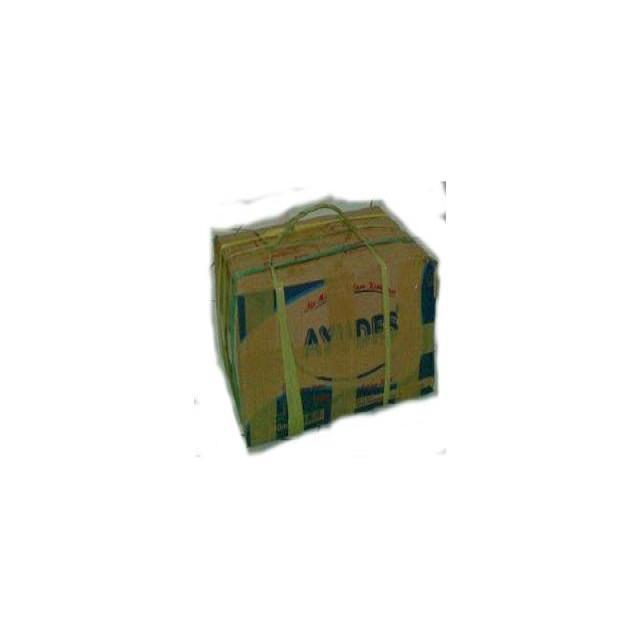Cardboard: (213, 197, 441, 454)
